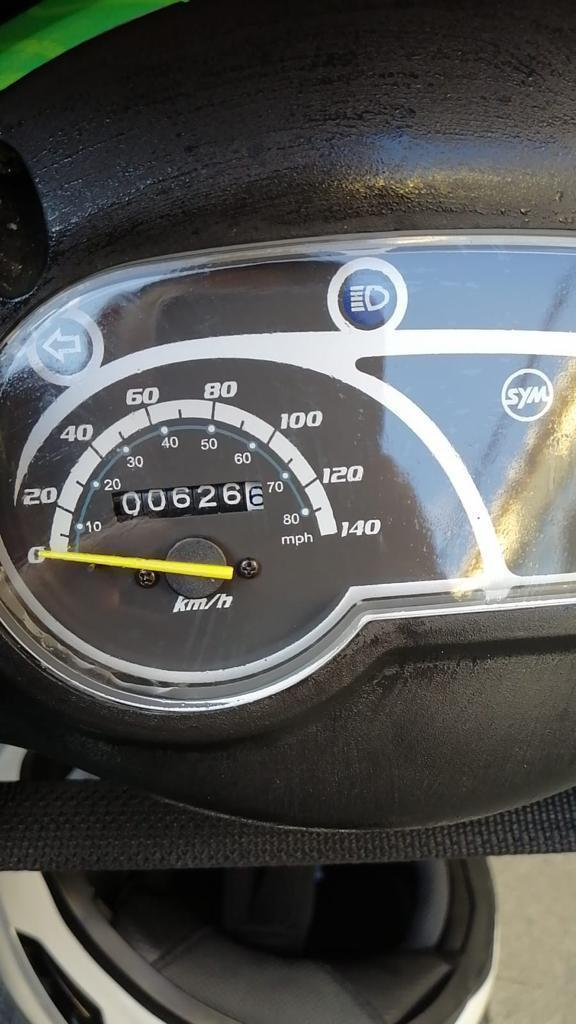0: (120, 491, 141, 516), (146, 488, 166, 511), (112, 478, 122, 490)
2: (196, 484, 218, 508), (108, 478, 112, 491)
6: (221, 481, 242, 505), (171, 486, 191, 509), (247, 485, 264, 507)
odometer: (108, 477, 268, 524)
